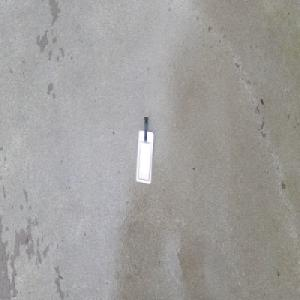LuggageTag: (134, 115, 155, 185)
